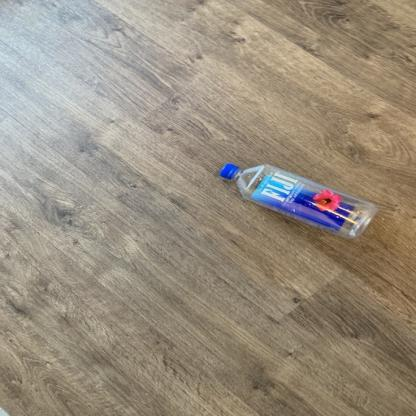trash: (218, 158, 379, 242)
